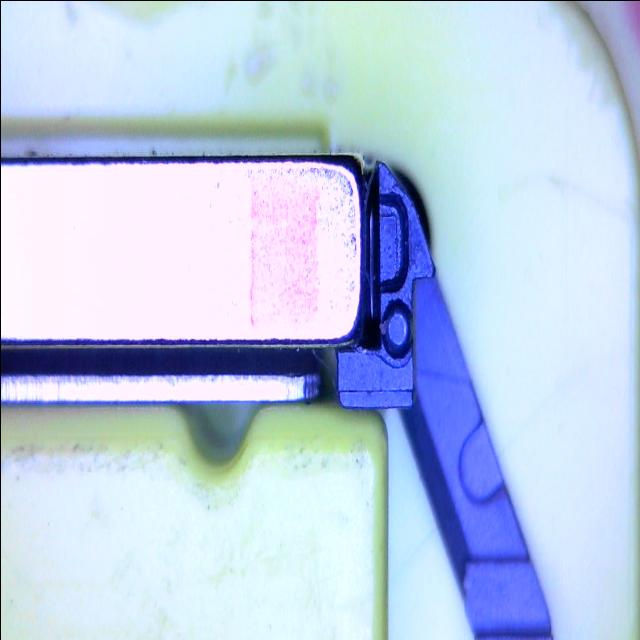lacking: (374, 192, 408, 295)
